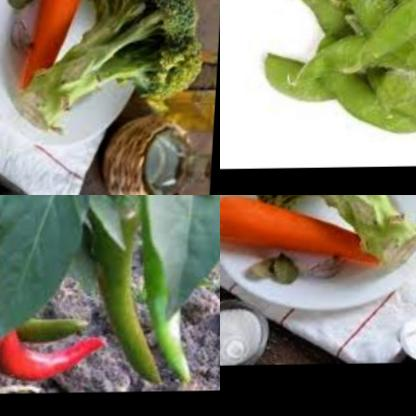beans: (230, 0, 416, 142)
broccoli: (29, 0, 215, 119), (252, 195, 416, 259)
carrot: (220, 195, 383, 268), (22, 0, 108, 87)
hot pepper: (72, 195, 175, 388), (125, 195, 220, 392), (0, 301, 113, 384), (0, 235, 35, 394), (0, 297, 97, 346)
